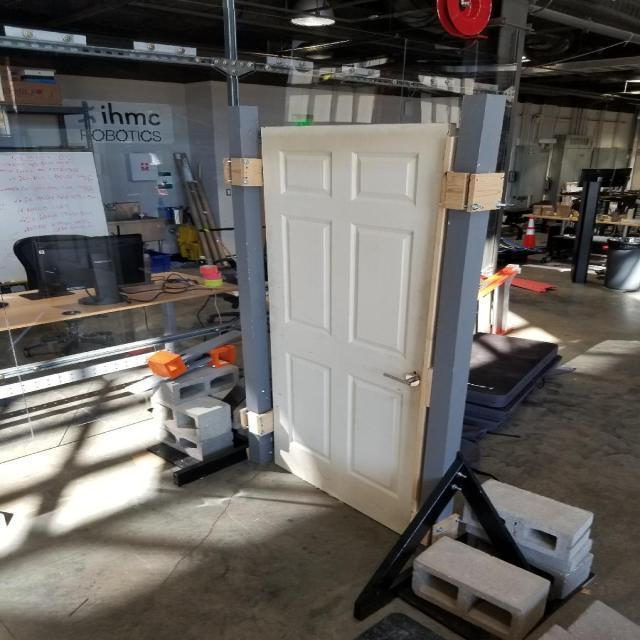door: (257, 121, 458, 544), (380, 369, 426, 392)
